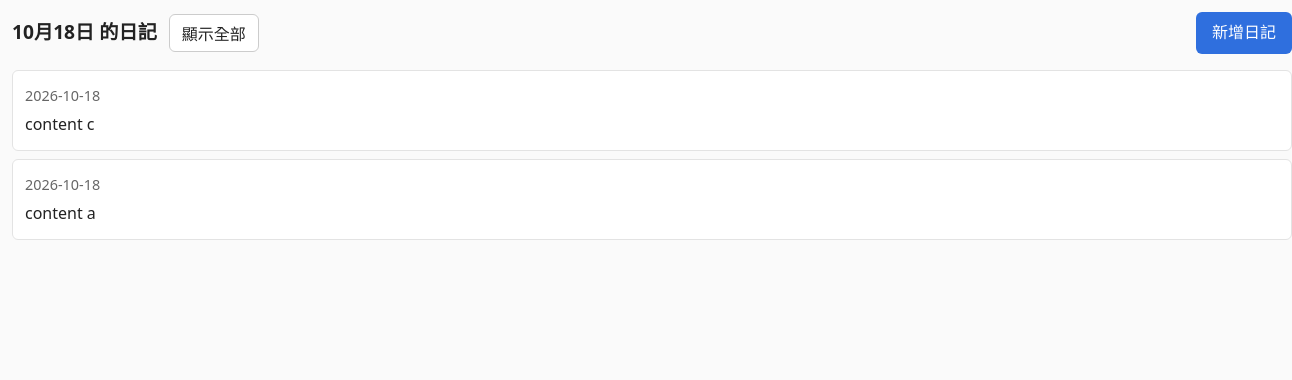
Test: DiaryList (selected day) › moves focus to the heading once the selection is cleared, reading 我的日記
The image size is (1292, 380).
Click the button "顯示全部" at (214, 33), box [169,14,259,52]
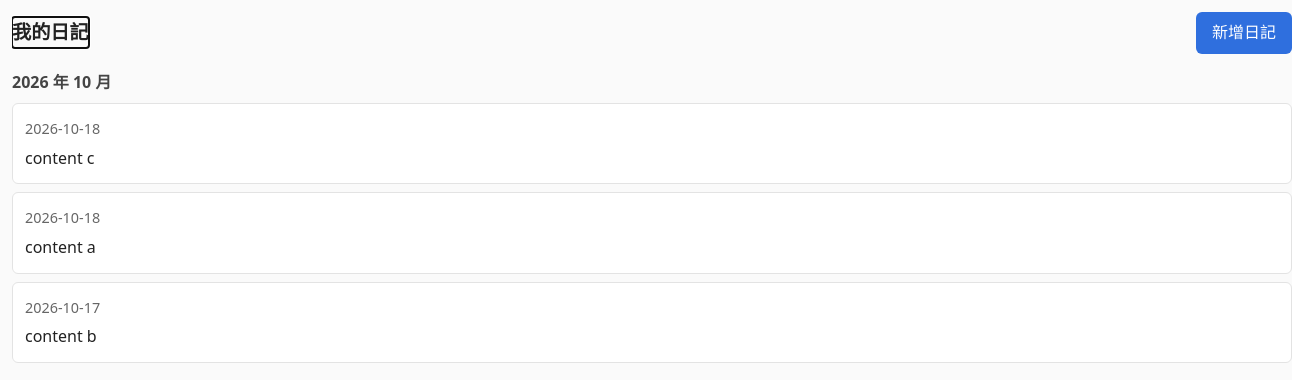
Expected: the heading "我的日記" is shown, [12,17,89,48]
